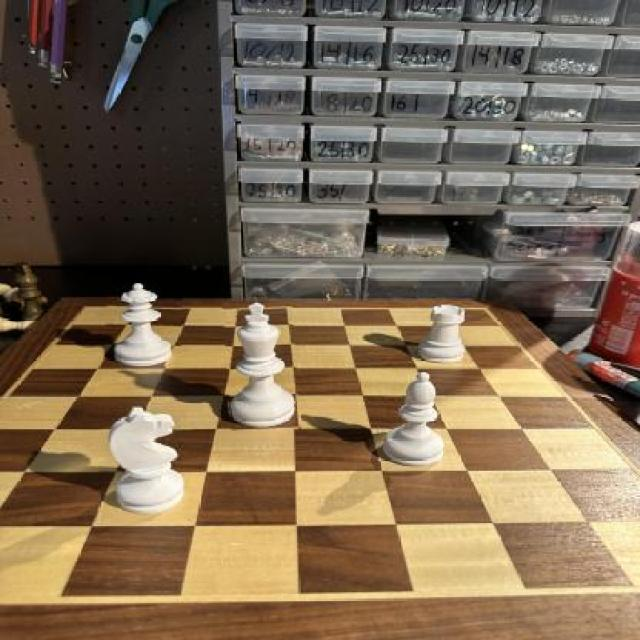black-rook: (386, 371, 447, 472)
white-bishop: (225, 300, 299, 432)
white-king: (100, 408, 194, 514)
white-pawn: (106, 282, 185, 366)
white-queen: (414, 298, 474, 366)
